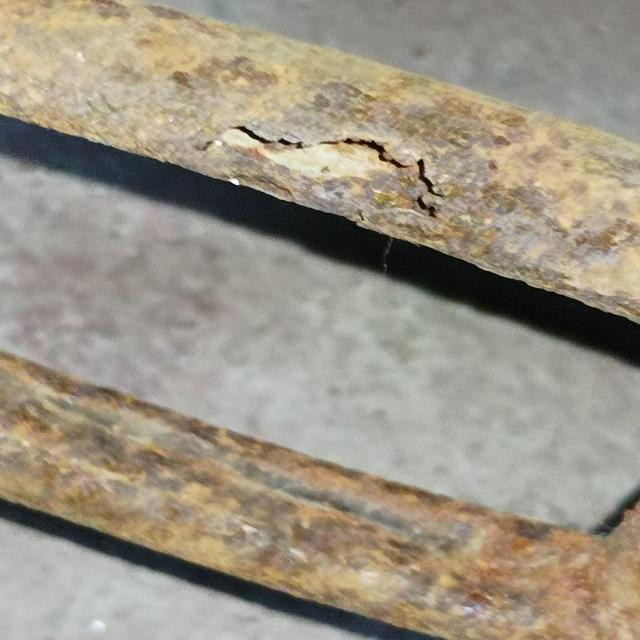defect: (194, 123, 451, 221)
